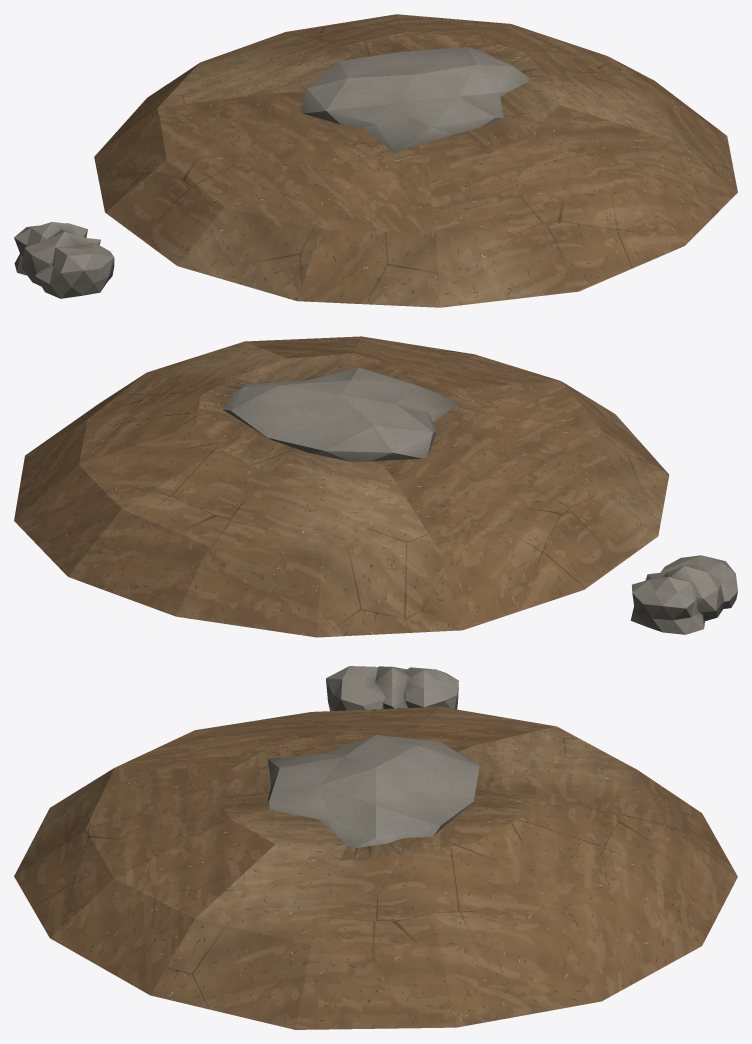
Rendered from fossa_silo.glb.
3 views of the same model, one above another, from view 1: azimuth 30°, elevation 25°; view 2: azimuth 150°, elevation 25°; view 3: azimuth 270°, elevation 25° (orthographic). The views are drawn at different scales.
Parts seen in each view (by area): view 1: fossa_silo; view 2: fossa_silo; view 3: fossa_silo.
Boxes of the visible parts, x1,y1,x2,y2 form: fossa_silo: (14, 14, 737, 307); fossa_silo: (14, 336, 737, 637); fossa_silo: (14, 666, 737, 1029).
Bounding box in the file's own units: 2.38 × 0.4231 × 2.05.
Materials: 2 (2 with a texture image).
